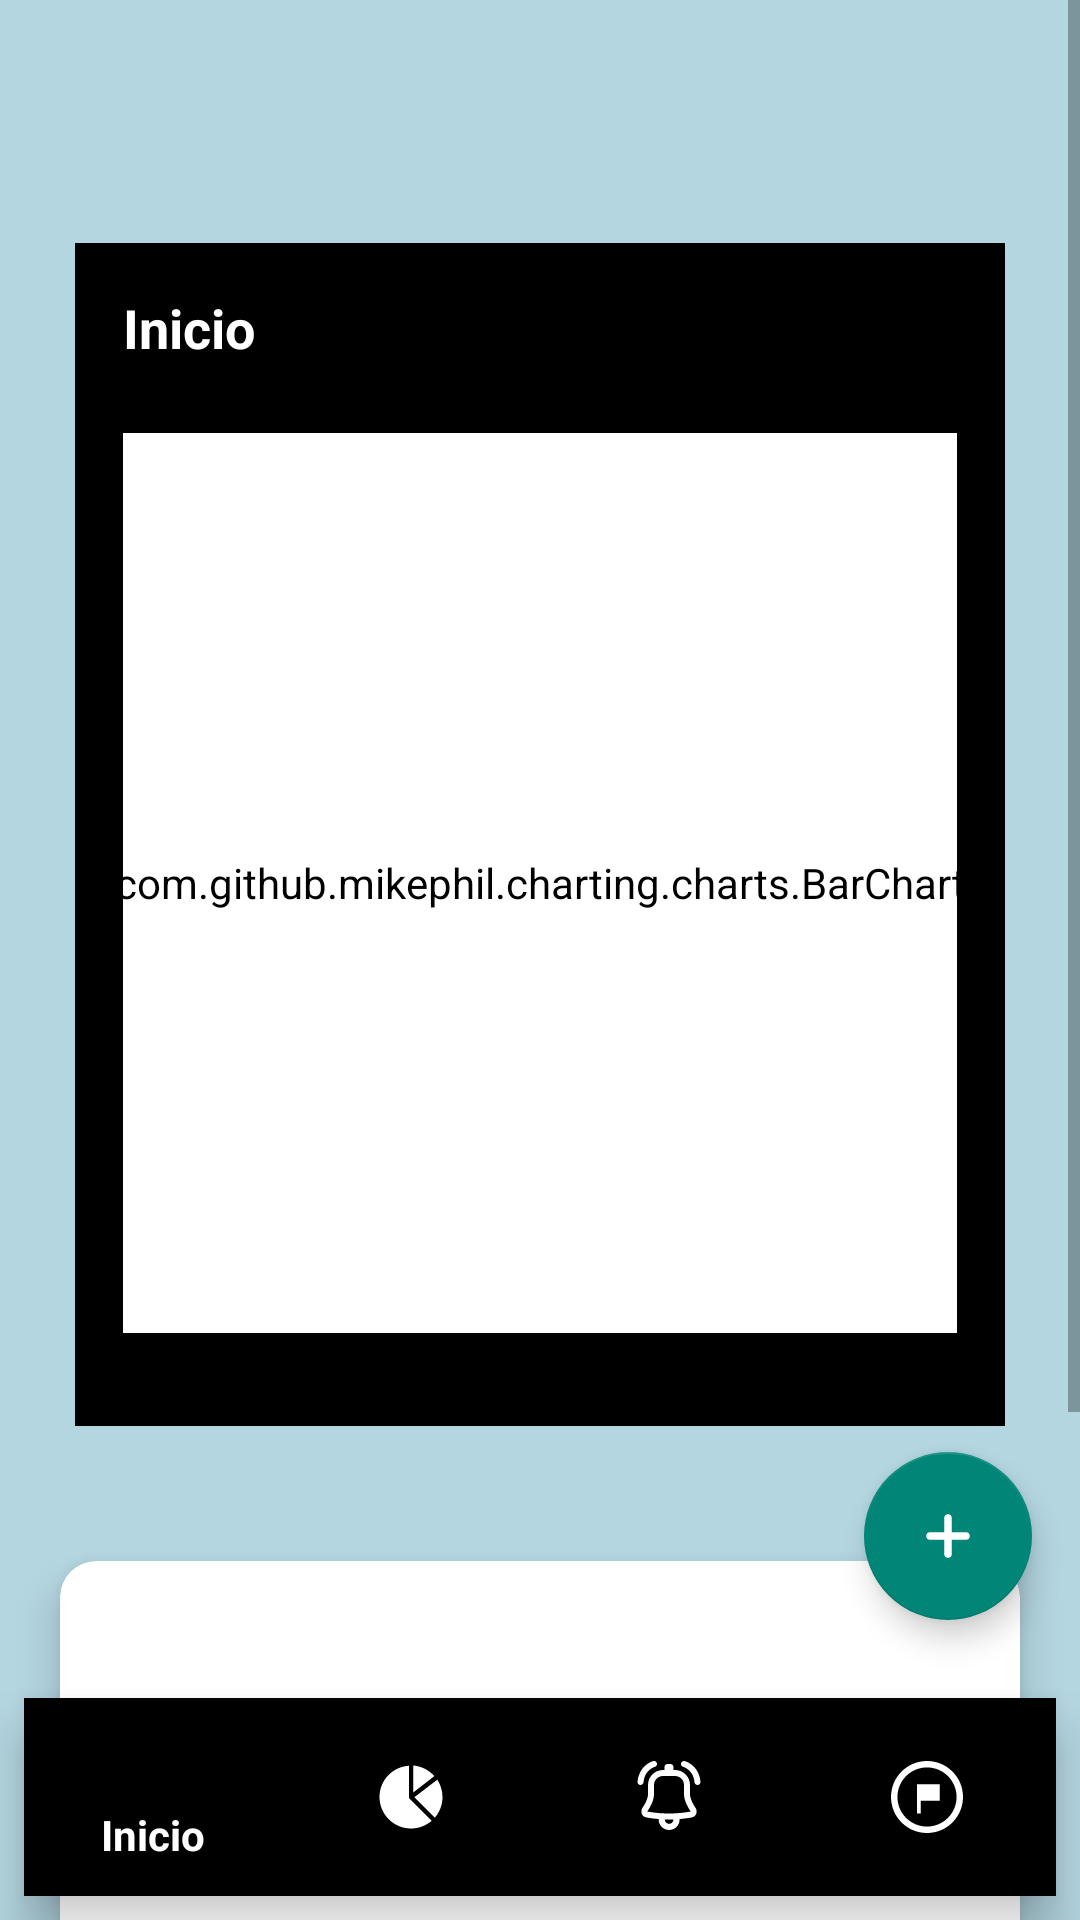

Icon click points for this 1080px x 1920px phone screenshot, format (x,y):
Botón para agregar transacción: (948,1536)
